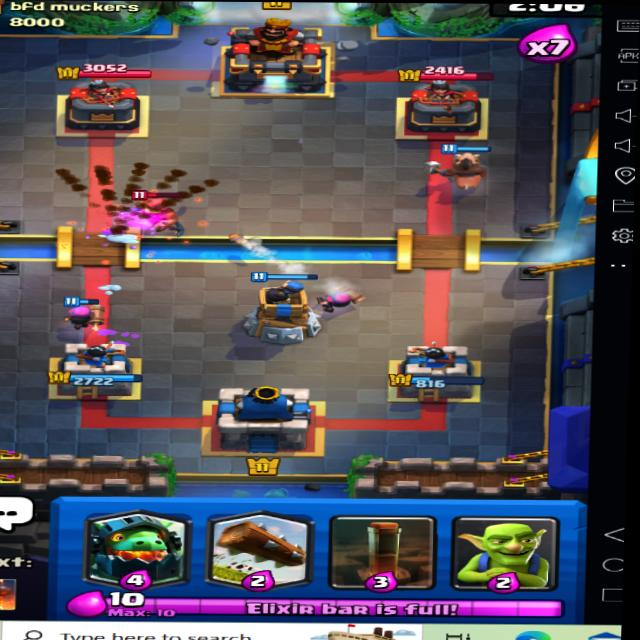fisherman: (110, 186, 199, 232)
